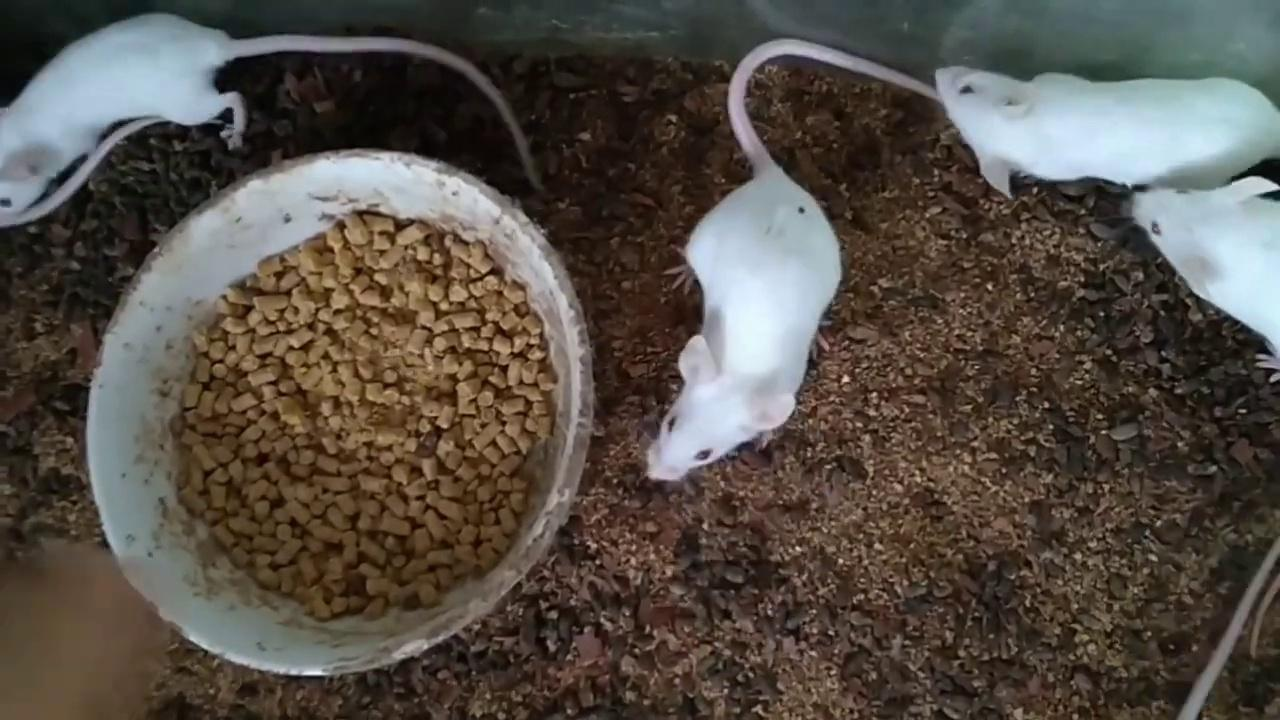rat: (646, 39, 943, 482), (0, 14, 545, 215), (939, 67, 1280, 199), (1135, 177, 1280, 384)
